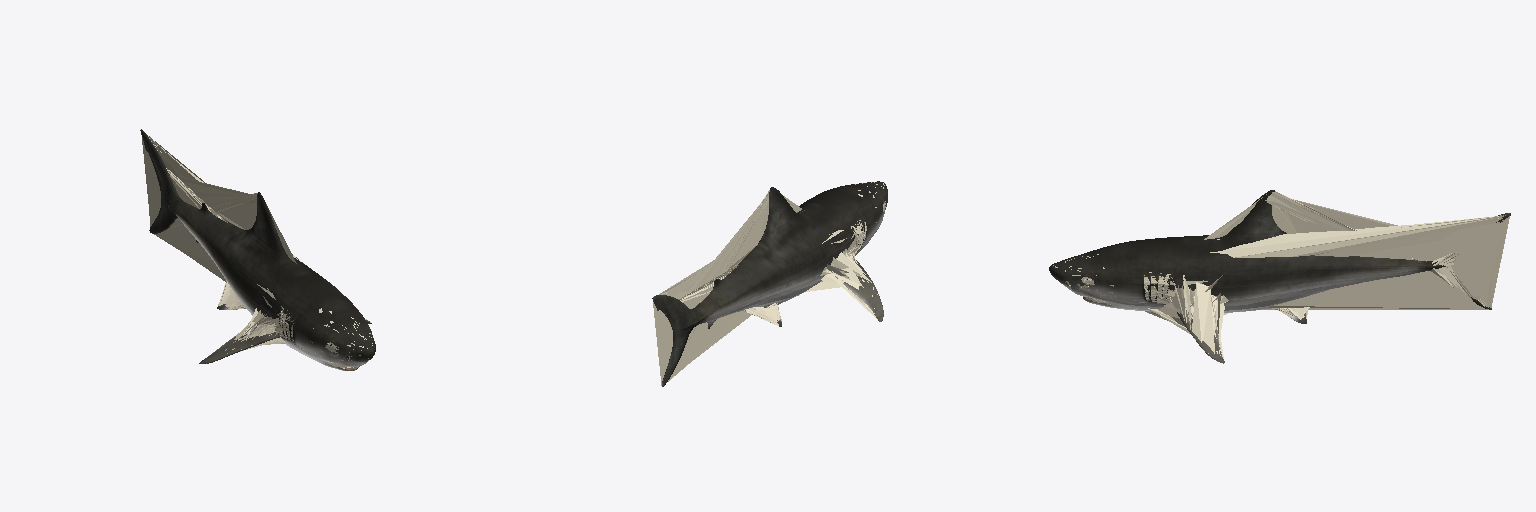
3 renders of one model, left to right at view 1: azimuth 30°, elevation 25°; view 2: azimuth 150°, elevation 25°; view 3: azimuth 270°, elevation 25°, orthographic.
Parts seen in each view (by area): view 1: WSHBODYM, WSHTOM; view 2: WSHBODYM, WSHTOM; view 3: WSHTOM, WSHBODYM.
Boxes of the visible parts, x1,y1,x2,y2 form: WSHBODYM: [140, 129, 375, 370]; WSHTOM: [142, 134, 372, 369]; WSHBODYM: [652, 181, 887, 386]; WSHTOM: [653, 182, 885, 385]; WSHTOM: [1053, 191, 1509, 361]; WSHBODYM: [1049, 190, 1510, 363].
Size of the model in its own units: 2770 by 2058 by 6512.
2 materials, 1 textured.